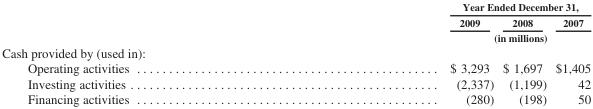table: (1, 0, 590, 106)
table column: (1, 0, 288, 106), (288, 0, 497, 106), (497, 0, 550, 106), (550, 0, 590, 106)
table column header: (1, 0, 590, 44)
table projected row header: (1, 44, 590, 60)
table row: (1, 44, 590, 60), (1, 75, 590, 91), (1, 14, 590, 29), (1, 29, 590, 44), (1, 60, 590, 75), (1, 91, 590, 106), (1, 0, 590, 14)
table spanning cell: (288, 29, 590, 44), (288, 0, 590, 14)
